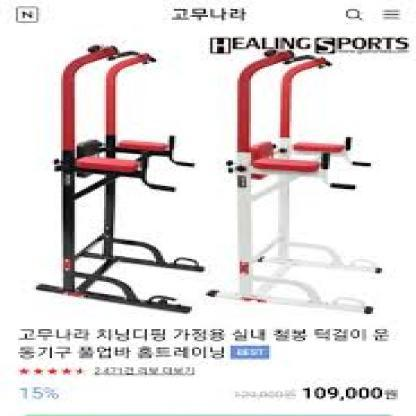chinning dipping: (33, 44, 206, 314)
